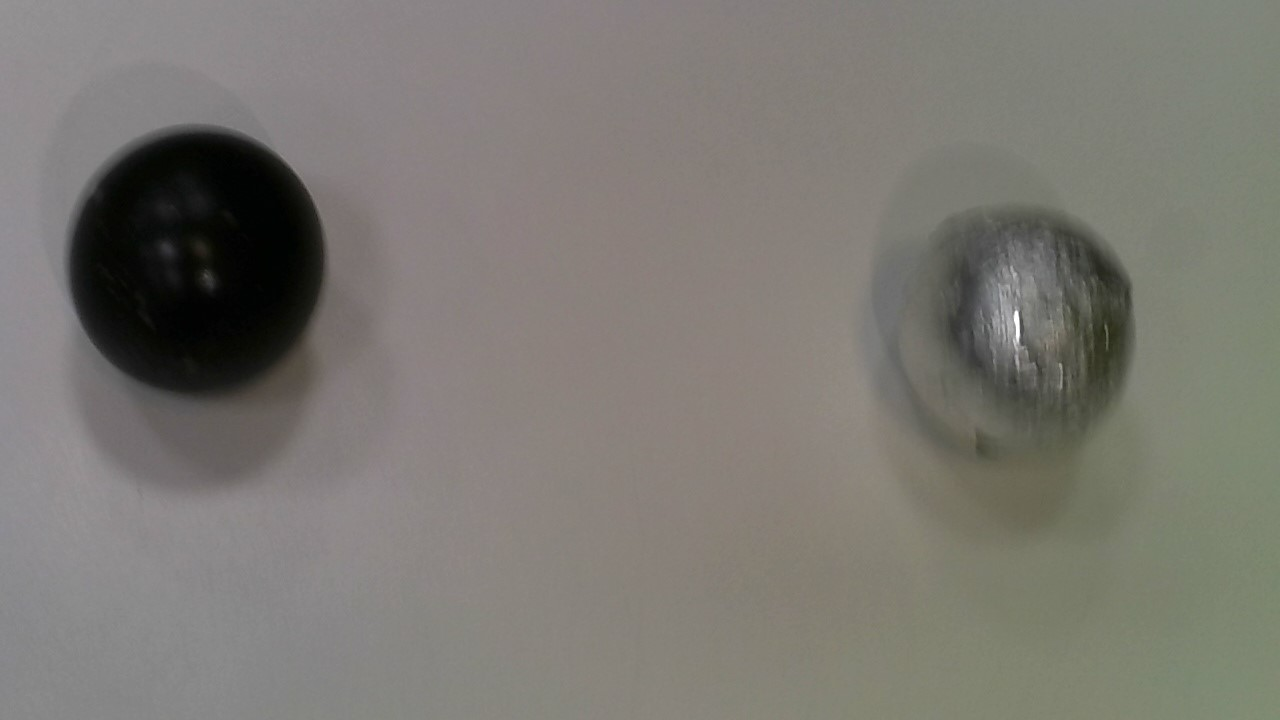black_ball: (56, 122, 342, 400)
silver_ball: (868, 195, 1150, 476)
